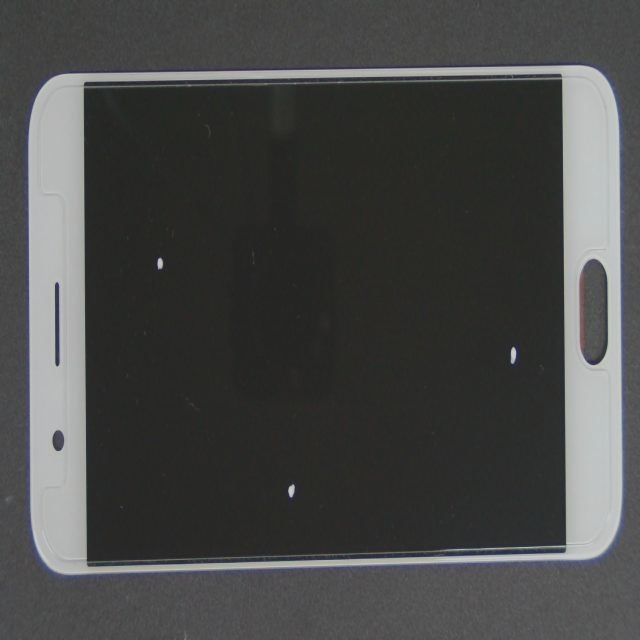stain: (275, 127, 640, 477), (168, 258, 466, 640), (94, 168, 255, 397)
